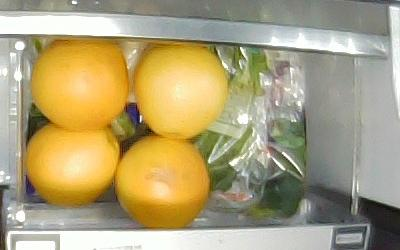grapefruit: (132, 42, 228, 140), (31, 39, 128, 129), (115, 135, 208, 228), (27, 123, 120, 207)
